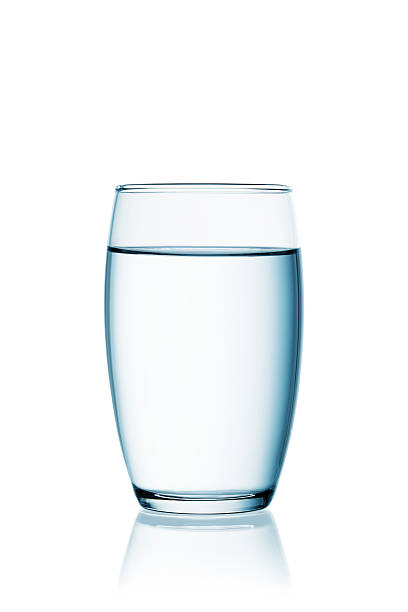glass of water: (108, 182, 294, 525)
